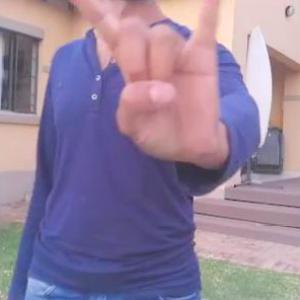takeoff-hand: (50, 0, 226, 171)
